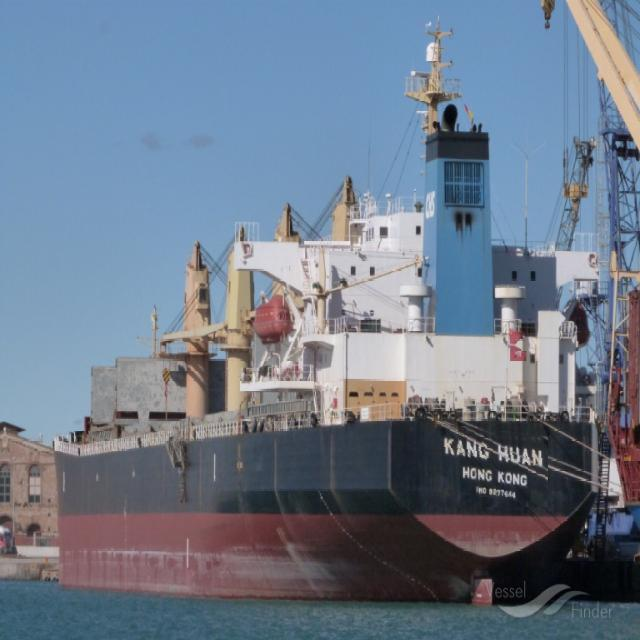OCR: (428, 422, 548, 507)
